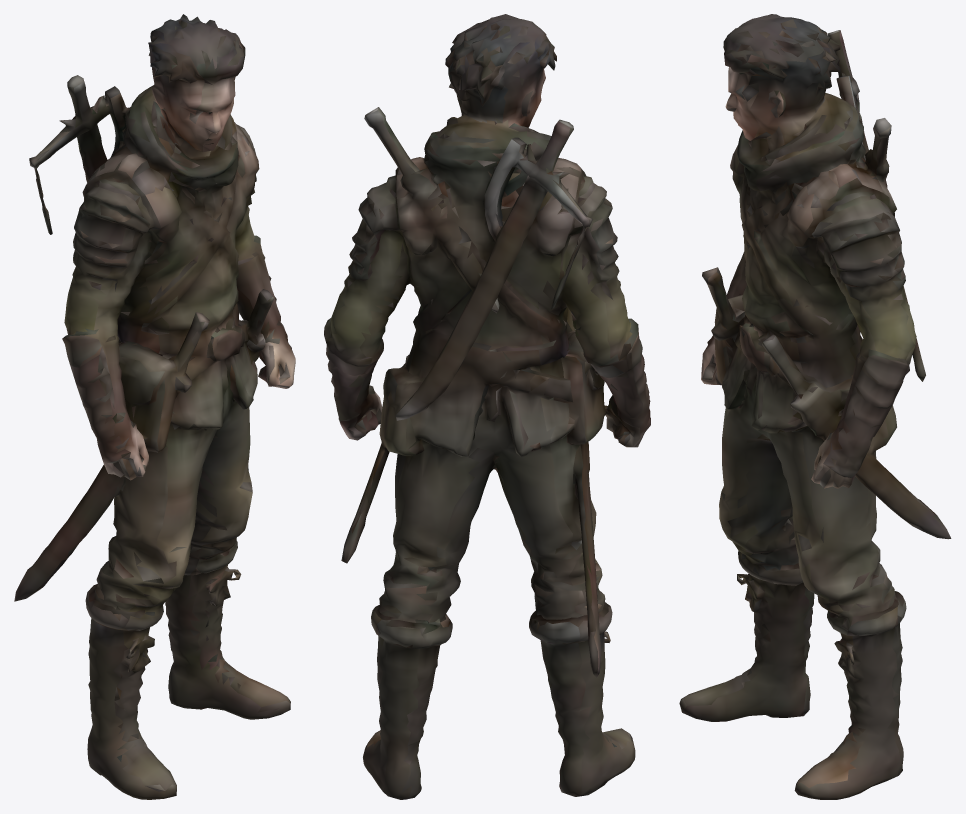
Rendered from Smilo_final.glb.
The picture shows the model from 3 angles, left to right: view 1: azimuth 30°, elevation 25°; view 2: azimuth 150°, elevation 25°; view 3: azimuth 270°, elevation 25°; orthographic projection. The views are drawn at different scales.
Parts seen in each view (by area): view 1: Mesh_0; view 2: Mesh_0; view 3: Mesh_0.
Part boxes in pixels (bbox=[...]): Mesh_0: bbox=[14, 14, 295, 799]; Mesh_0: bbox=[324, 14, 650, 799]; Mesh_0: bbox=[679, 14, 951, 799].
Size of the model in its own units: 0.6855 by 1.8 by 0.607.
1 material, 1 textured.
